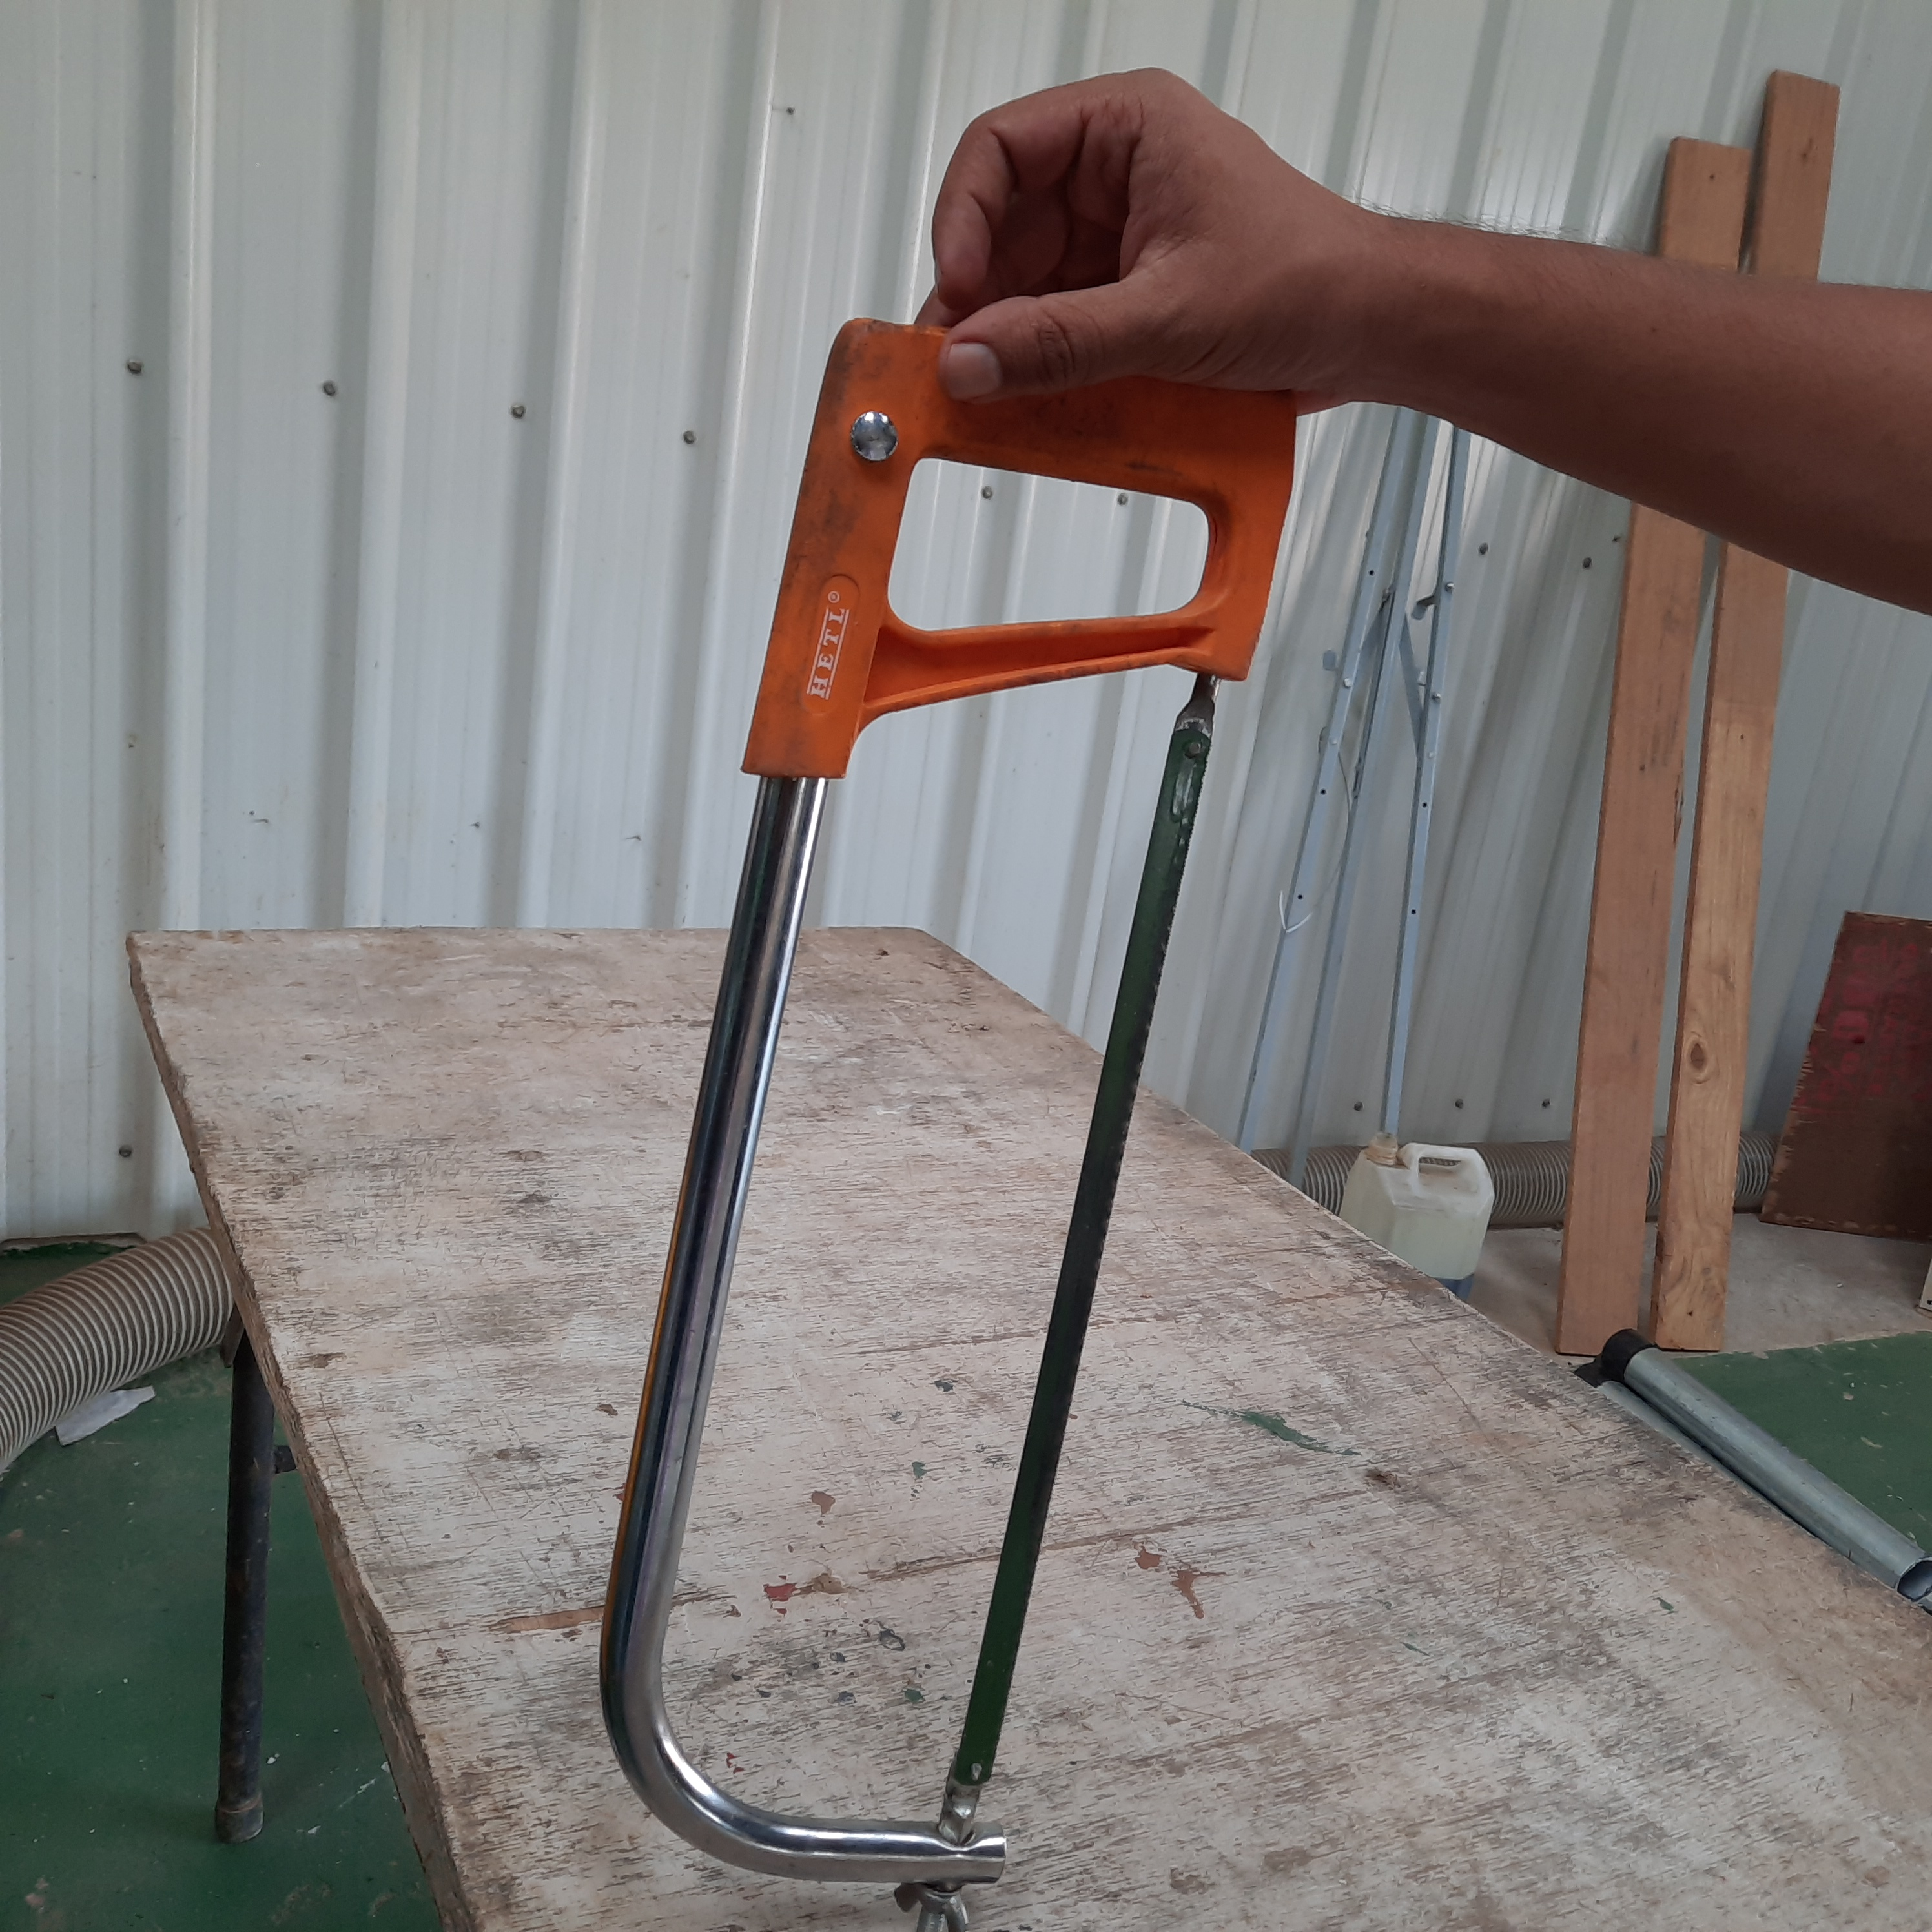Hexaframe: (561, 271, 1338, 1932)
